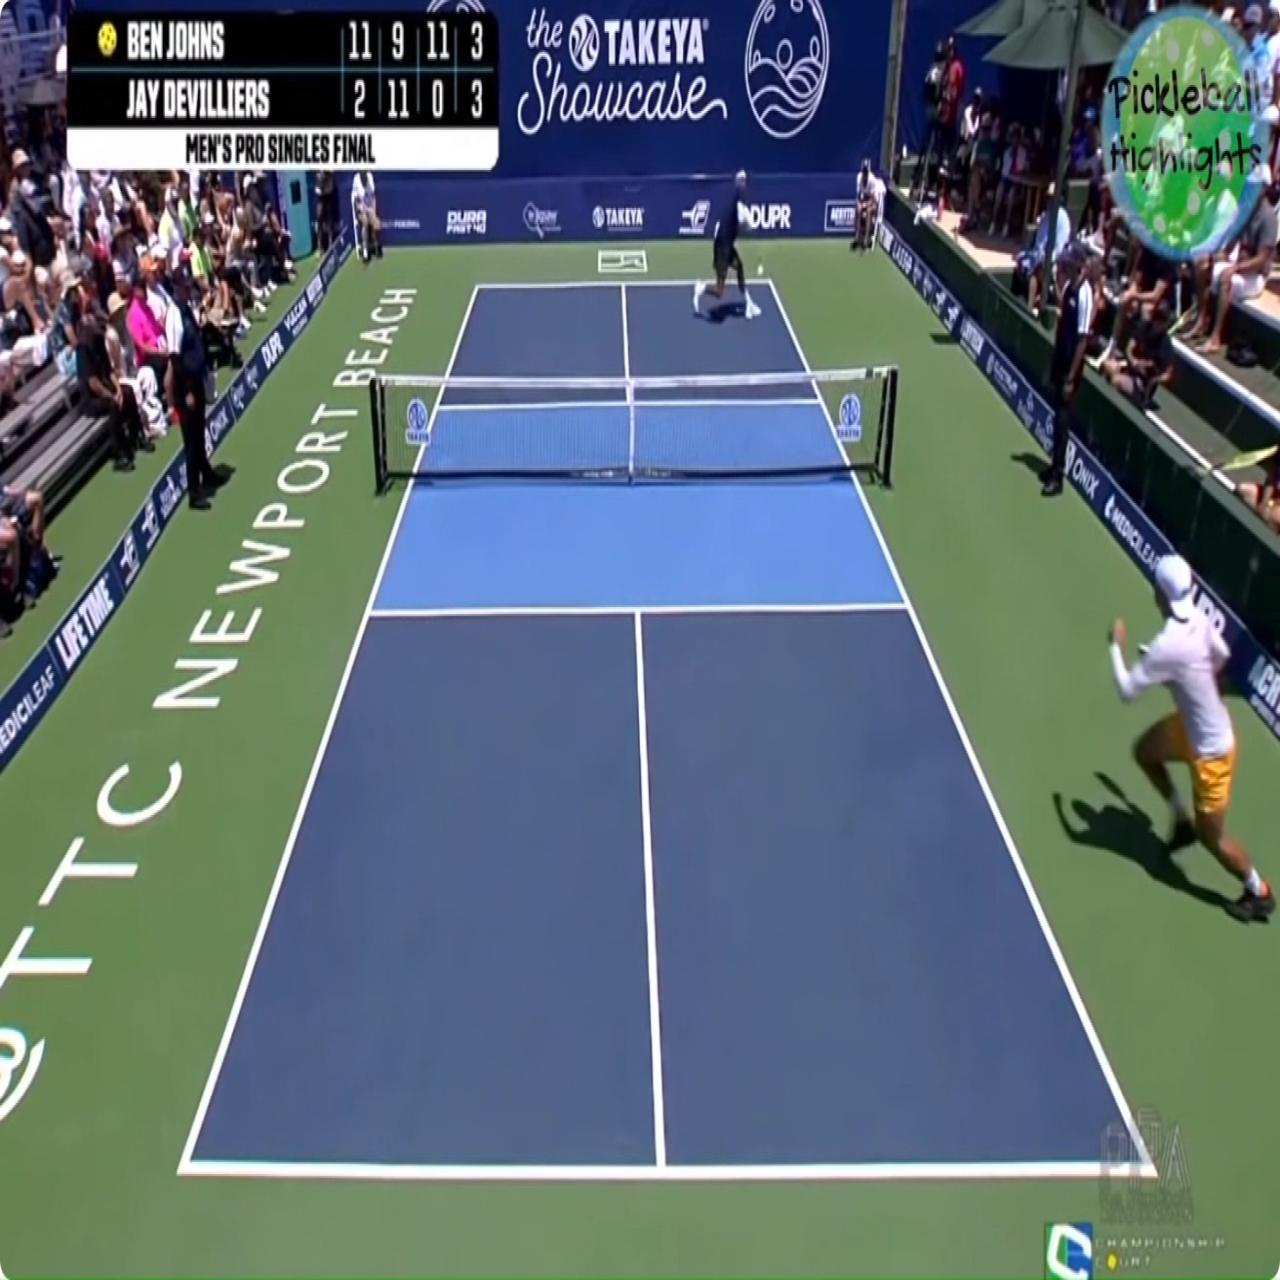pickleball: (757, 264, 764, 277)
